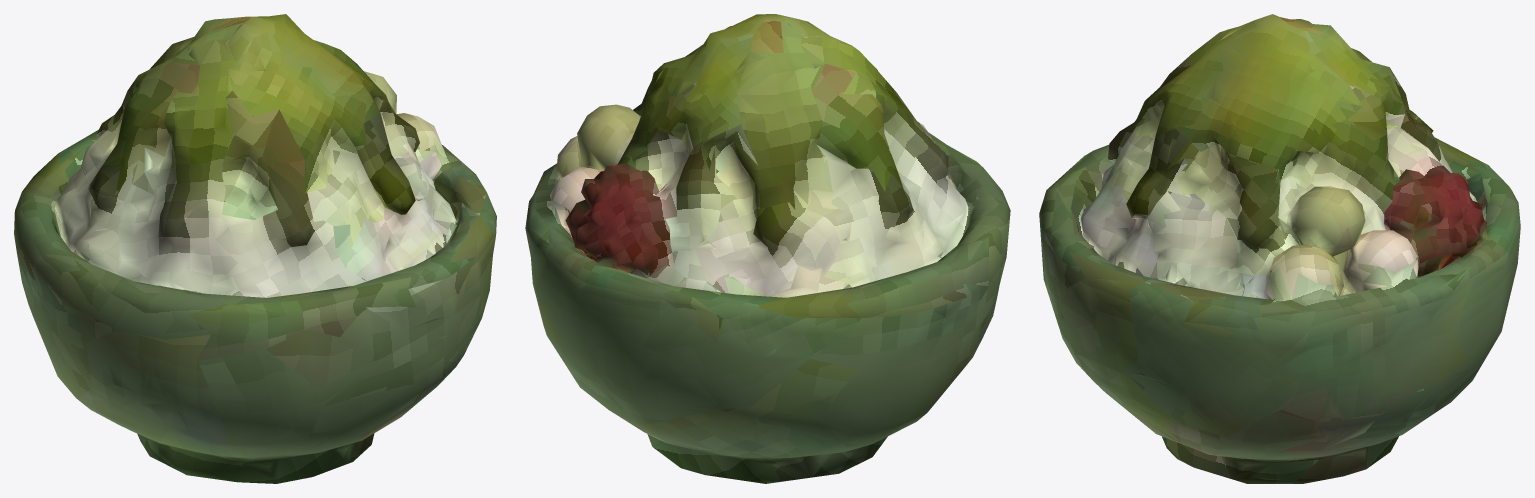
The model's file is JP_사물_s2_food_tier1_matcha_kakigori.glb.
3 renders of one model, left to right at view 1: azimuth 30°, elevation 25°; view 2: azimuth 150°, elevation 25°; view 3: azimuth 270°, elevation 25°, orthographic.
Parts seen in each view (by area): view 1: tripo_node_6eb19694-970c-4092-992e-ee597d905dc0; view 2: tripo_node_6eb19694-970c-4092-992e-ee597d905dc0; view 3: tripo_node_6eb19694-970c-4092-992e-ee597d905dc0.
Boxes of the visible parts, <box> form: tripo_node_6eb19694-970c-4092-992e-ee597d905dc0: <box>14,14,496,483</box>; tripo_node_6eb19694-970c-4092-992e-ee597d905dc0: <box>525,14,1010,483</box>; tripo_node_6eb19694-970c-4092-992e-ee597d905dc0: <box>1039,14,1520,483</box>.
Bounding box in the file's own units: 1 × 0.9535 × 1.
Materials: 1 (1 with a texture image).
